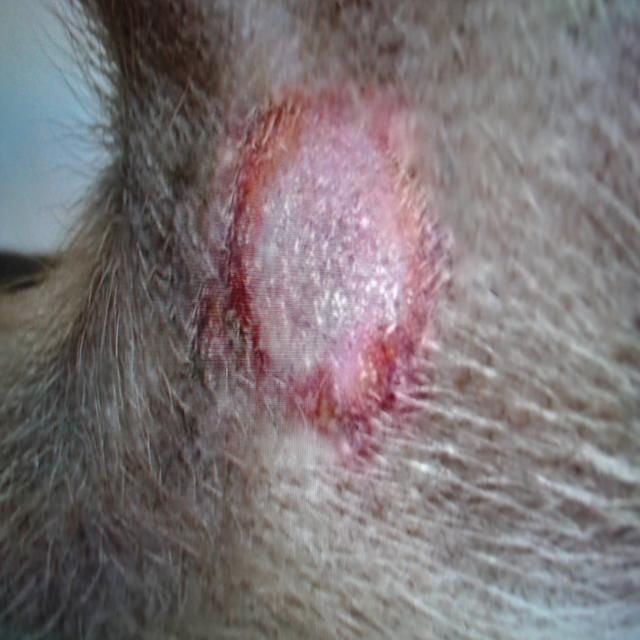ringworm: (221, 58, 444, 470)
